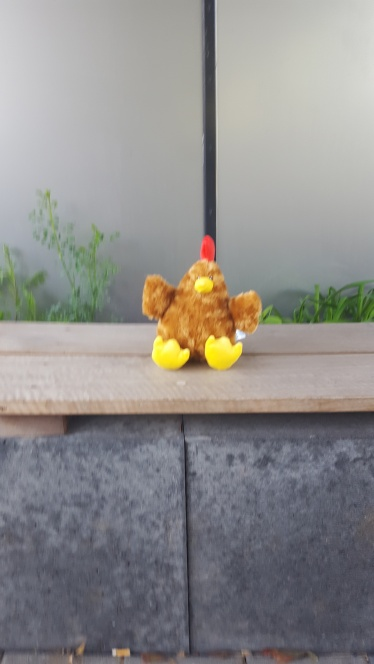chicken_front: (141, 234, 261, 371)
